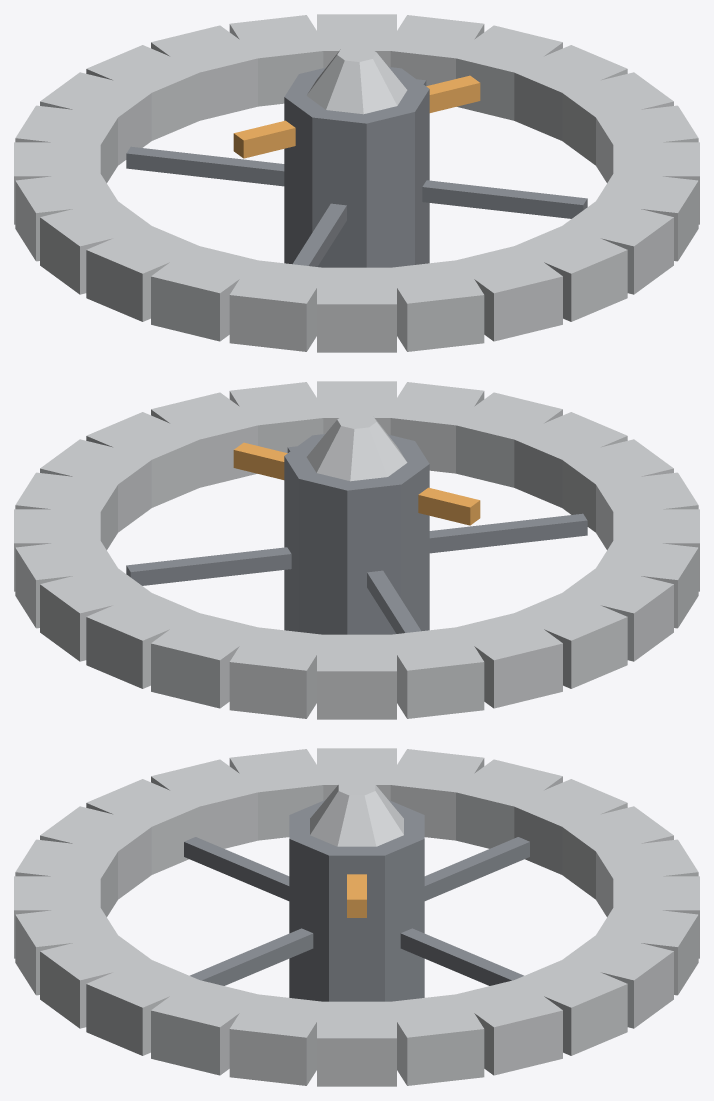
File: trade-station.glb
The picture shows the model from 3 angles, top to bottom: view 1: azimuth 30°, elevation 25°; view 2: azimuth 150°, elevation 25°; view 3: azimuth 270°, elevation 25°; orthographic projection.
Visible parts, largest first — view 1: ring, hub; view 2: ring, hub; view 3: ring, hub.
Boxes of the visible parts, x1,y1,x2,y2 form: ring: (14,14,699,352); hub: (126,45,587,267); ring: (14,381,699,719); hub: (126,412,587,634); ring: (14,748,699,1086); hub: (184,780,529,1001).
Bounding box in the file's own units: 2.06 × 0.8 × 2.06.
